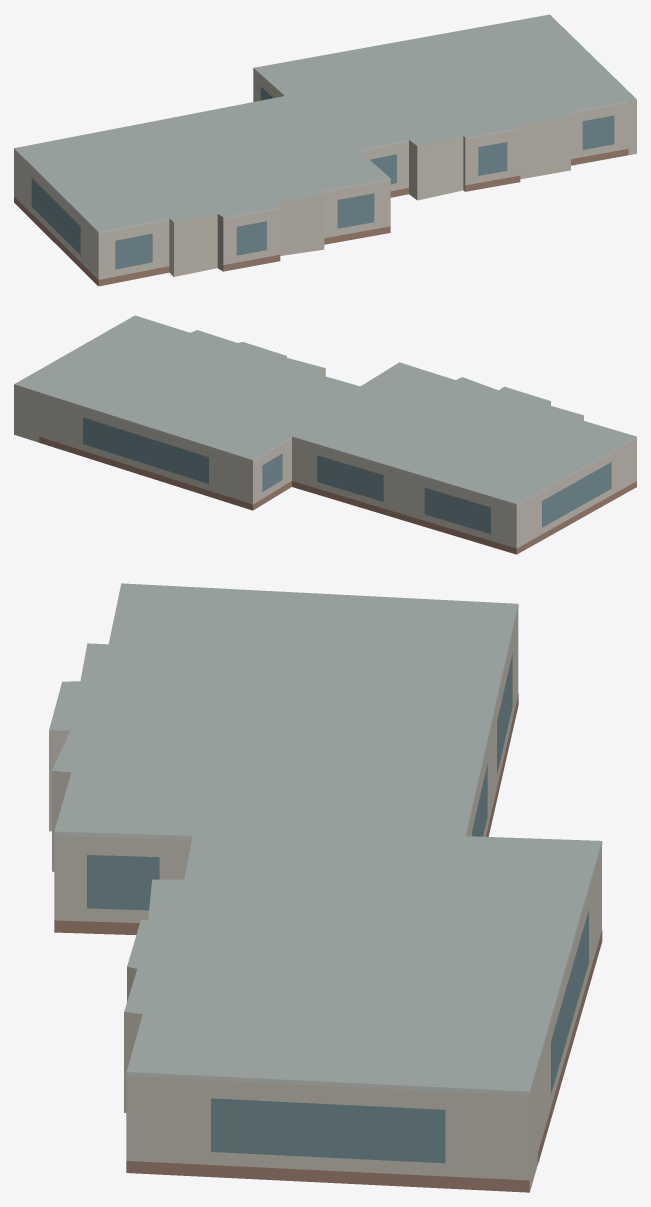
The model's file is survey-upis-32977492.glb.
The picture shows the model from 3 angles, top to bottom: view 1: azimuth 30°, elevation 25°; view 2: azimuth 150°, elevation 25°; view 3: azimuth 270°, elevation 25°; orthographic projection. The views are drawn at different scales.
Parts seen in each view (by area): view 1: survey-upis-32977492.tmp; view 2: survey-upis-32977492.tmp; view 3: survey-upis-32977492.tmp.
Boxes of the visible parts, x1,y1,x2,y2 form: survey-upis-32977492.tmp: [14, 14, 636, 286]; survey-upis-32977492.tmp: [14, 315, 636, 554]; survey-upis-32977492.tmp: [49, 583, 602, 1192].
Bounding box in the file's own units: 32.93 × 3.05 × 15.15.
